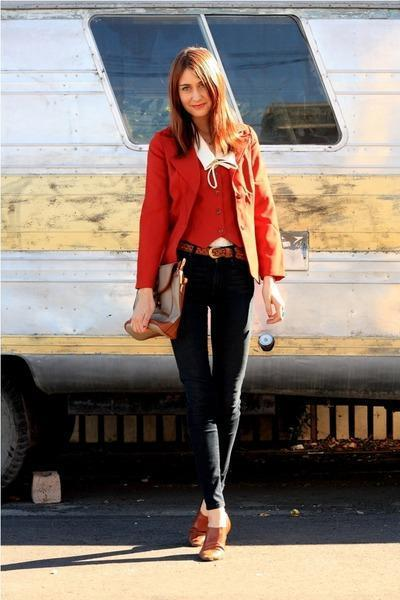bag: (146, 259, 187, 340)
jacket: (136, 122, 283, 288)
pants: (171, 254, 258, 513)
shoe: (190, 500, 227, 561)
